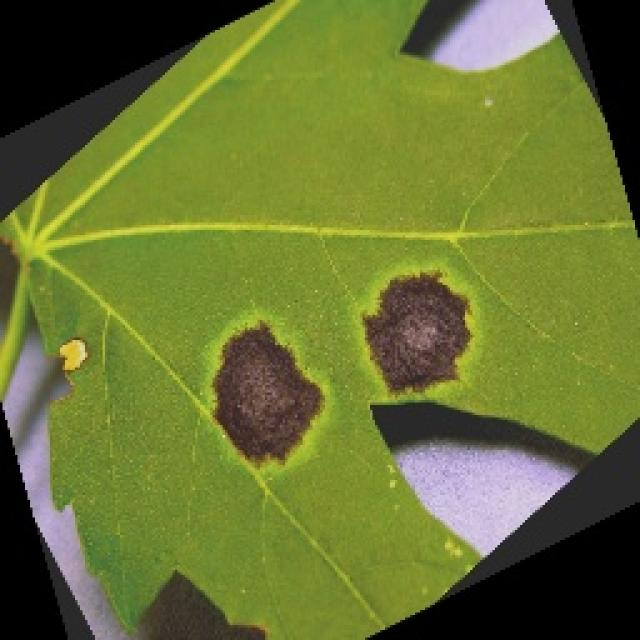Tar_Spot: (0, 0, 638, 638), (168, 262, 518, 471)
